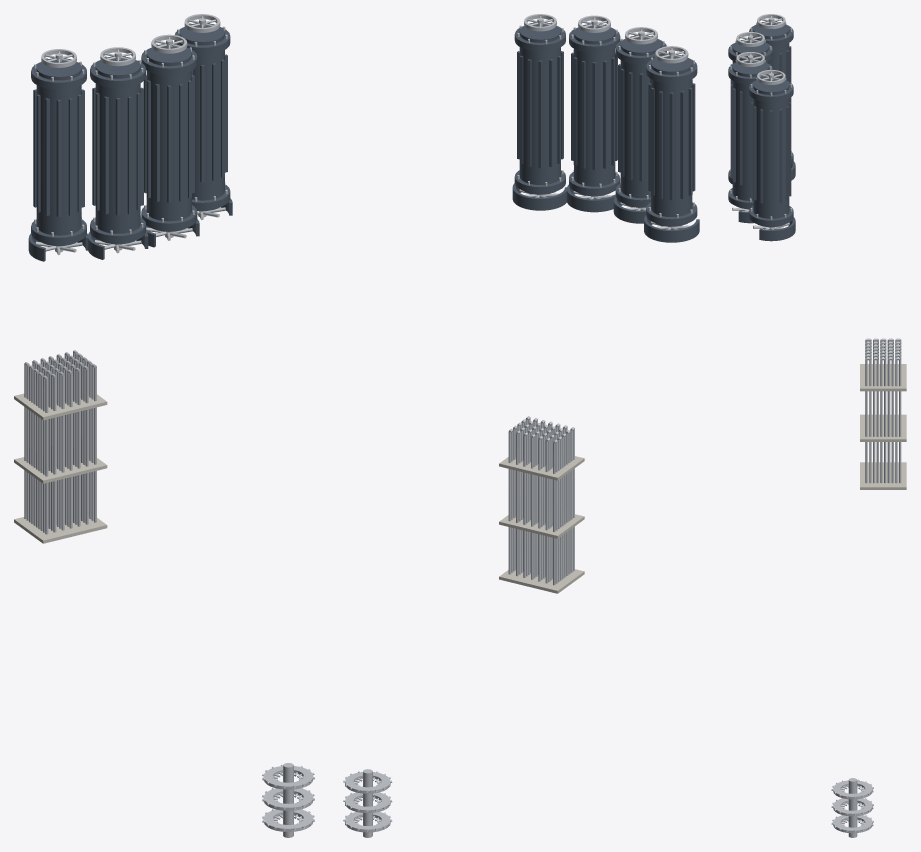
The model's file is RotatingEquipment.fbx.
3 renders of one model, left to right at view 1: azimuth 30°, elevation 25°; view 2: azimuth 150°, elevation 25°; view 3: azimuth 270°, elevation 25°, orthographic. The views are drawn at different scales.
Parts seen in each view (by area): view 1: RS_PRI_PumpMotor_01_LOD0, RS_SGN_TubeBundle_01_LOD0, RS_TUR_RotorStub_01_LOD0, RS_SGN_TubeSheet_01_LOD0, RS_PRI_ServiceBolts_01_LOD0; view 2: RS_PRI_PumpMotor_01_LOD0, RS_SGN_TubeBundle_01_LOD0, RS_TUR_RotorStub_01_LOD0, RS_SGN_TubeSheet_01_LOD0, RS_PRI_PumpCasing_00_LOD0, RS_PRI_PumpCasing_03_LOD0, RS_PRI_PumpCasing_02_LOD0; view 3: RS_PRI_PumpMotor_01_LOD0, RS_SGN_TubeBundle_01_LOD0, RS_SGN_TubeSheet_01_LOD0, RS_TUR_RotorStub_01_LOD0, RS_PRI_PumpCasing_03_LOD0, RS_PRI_Flywheel_03_LOD0, RS_PRI_Flywheel_00_LOD0, RS_PRI_Flywheel_01_LOD0, RS_PRI_Flywheel_02_LOD0.
Boxes of the visible parts, <box> form: RS_PRI_PumpMotor_01_LOD0: <box>31,23,230,245</box>; RS_SGN_TubeBundle_01_LOD0: <box>24,350,96,534</box>; RS_TUR_RotorStub_01_LOD0: <box>262,763,314,837</box>; RS_SGN_TubeSheet_01_LOD0: <box>14,393,107,543</box>; RS_PRI_ServiceBolts_01_LOD0: <box>34,23,227,236</box>; RS_PRI_PumpMotor_01_LOD0: <box>514,22,697,226</box>; RS_SGN_TubeBundle_01_LOD0: <box>508,416,574,585</box>; RS_TUR_RotorStub_01_LOD0: <box>343,769,392,837</box>; RS_SGN_TubeSheet_01_LOD0: <box>499,456,584,593</box>; RS_PRI_PumpCasing_00_LOD0: <box>644,215,699,242</box>; RS_PRI_PumpCasing_03_LOD0: <box>512,183,567,210</box>; RS_PRI_PumpCasing_02_LOD0: <box>567,184,615,212</box>; RS_PRI_PumpMotor_01_LOD0: <box>728,21,793,227</box>; RS_SGN_TubeBundle_01_LOD0: <box>865,338,901,483</box>; RS_SGN_TubeSheet_01_LOD0: <box>860,364,906,489</box>; RS_TUR_RotorStub_01_LOD0: <box>831,778,873,837</box>; RS_PRI_PumpCasing_03_LOD0: <box>759,217,795,241</box>; RS_PRI_Flywheel_03_LOD0: <box>757,70,785,84</box>; RS_PRI_Flywheel_00_LOD0: <box>757,14,785,28</box>; RS_PRI_Flywheel_01_LOD0: <box>736,32,764,46</box>; RS_PRI_Flywheel_02_LOD0: <box>736,52,764,66</box>.
Size of what is drawn, in the model's own units: 4.89 by 12.58 by 2.87.
